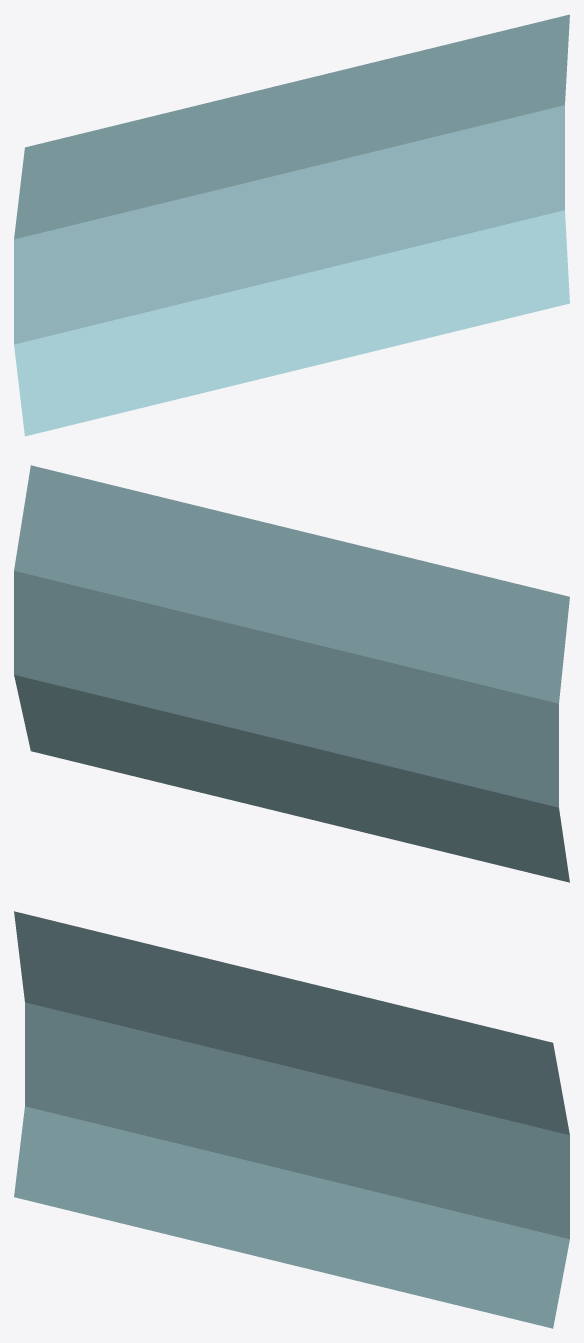
The model's file is glass_basic.glb.
The picture shows the model from 3 angles, top to bottom: view 1: azimuth 30°, elevation 25°; view 2: azimuth 150°, elevation 25°; view 3: azimuth 330°, elevation 25°; orthographic projection.
Visible parts, largest first — view 1: glass_basic; view 2: glass_basic; view 3: glass_basic.
Part boxes in pixels (x1=…): glass_basic: x1=14, y1=14, x2=569, y2=436; glass_basic: x1=14, y1=465, x2=569, y2=882; glass_basic: x1=14, y1=911, x2=569, y2=1328.
Bounding box in the file's own units: 6.48 × 3.25 × 0.2244.
Materials: 1 (1 with a texture image).
